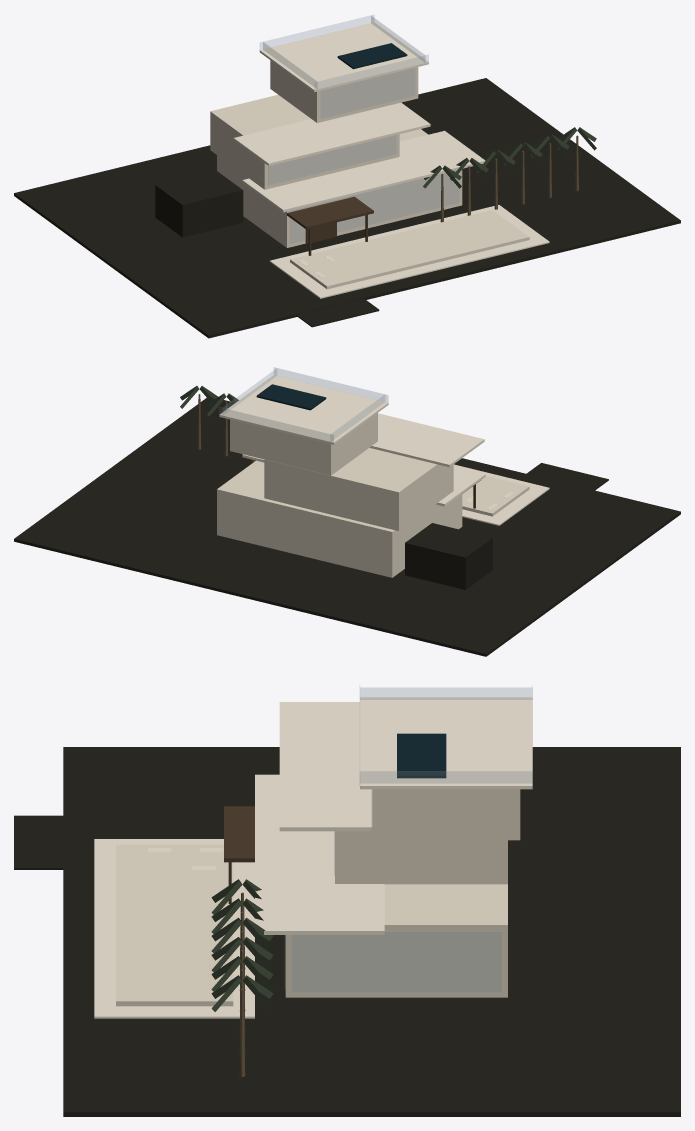
File: velora-sky-palace-full.glb
3 views of the same model, one above another, from view 1: azimuth 30°, elevation 25°; view 2: azimuth 150°, elevation 25°; view 3: azimuth 270°, elevation 25° (orthographic). The views are drawn at different scales.
Parts seen in each view (by area): view 1: Site, Pool-Rim, Volume-02, Volume-01, Terrace-01, Terrace-02, Rooftop-Deck, Volume-03, Garage, Pool-Deck, Glass-Front-01, Glass-Front-03 (+8 smaller); view 2: Site, Volume-01, Volume-02, Rooftop-Deck, Volume-03, Garage, Terrace-02, Pool-Rim, Pool-Deck, Driveway, Rooftop-Pool, Rooftop-Railing-Rear (+3 smaller); view 3: Site, Volume-01, Pool-Rim, Rooftop-Deck, Glass-Side-01, Terrace-01, Terrace-02, Volume-02, Pool-Deck, Volume-03, Driveway, Rooftop-Pool (+9 smaller).
Part boxes in pixels (x1=…): Site: x1=14, y1=78, x2=680, y2=338; Pool-Rim: x1=290, y1=210, x2=529, y2=289; Volume-02: x1=210, y1=95, x2=399, y2=189; Volume-01: x1=217, y1=129, x2=462, y2=247; Terrace-01: x1=242, y1=130, x2=485, y2=212; Terrace-02: x1=233, y1=102, x2=430, y2=165; Rooftop-Deck: x1=259, y1=22, x2=428, y2=92; Volume-03: x1=270, y1=60, x2=418, y2=122; Garage: x1=155, y1=170, x2=243, y2=237; Pool-Deck: x1=269, y1=205, x2=549, y2=298; Glass-Front-01: x1=290, y1=170, x2=458, y2=243; Glass-Front-03: x1=321, y1=68, x2=414, y2=118; Site: x1=14, y1=397, x2=680, y2=656; Volume-01: x1=217, y1=460, x2=462, y2=577; Volume-02: x1=264, y1=448, x2=453, y2=530; Rooftop-Deck: x1=219, y1=375, x2=388, y2=444; Volume-03: x1=230, y1=413, x2=377, y2=475; Garage: x1=405, y1=523, x2=492, y2=589; Terrace-02: x1=369, y1=413, x2=484, y2=467; Pool-Rim: x1=462, y1=476, x2=529, y2=516; Pool-Deck: x1=453, y1=464, x2=549, y2=525; Driveway: x1=526, y1=463, x2=608, y2=490; Rooftop-Pool: x1=256, y1=384, x2=326, y2=410; Rooftop-Railing-Rear: x1=219, y1=407, x2=333, y2=442; Site: x1=63, y1=747, x2=680, y2=1116; Volume-01: x1=285, y1=884, x2=507, y2=997; Pool-Rim: x1=116, y1=844, x2=233, y2=1006; Rooftop-Deck: x1=360, y1=697, x2=532, y2=789; Glass-Side-01: x1=292, y1=932, x2=501, y2=991; Terrace-01: x1=255, y1=774, x2=384, y2=934; Terrace-02: x1=279, y1=702, x2=372, y2=831; Volume-02: x1=335, y1=831, x2=507, y2=884; Pool-Deck: x1=94, y1=839, x2=254, y2=1018; Volume-03: x1=372, y1=789, x2=520, y2=840; Driveway: x1=14, y1=815, x2=63, y2=869; Rooftop-Pool: x1=397, y1=733, x2=446, y2=778.
Size of the model in its own units: 70 by 19.7 by 54.
